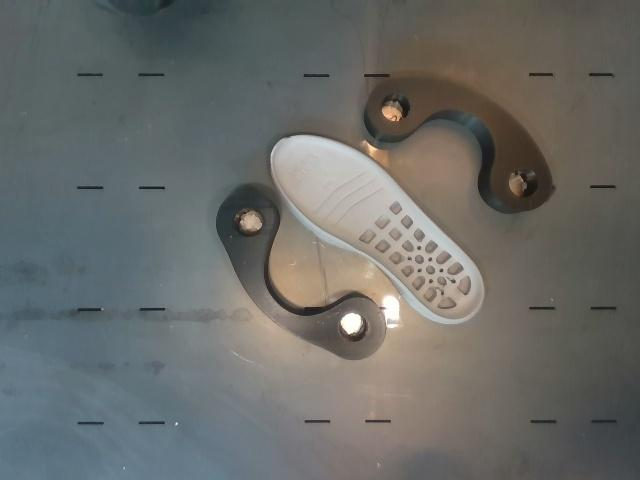shoes: (272, 137, 483, 320)
